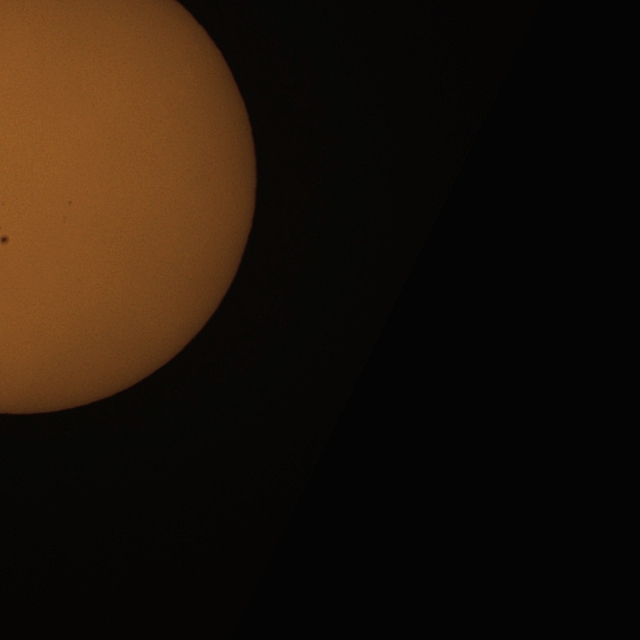sunspot: (0, 234, 10, 246), (67, 199, 73, 206)
